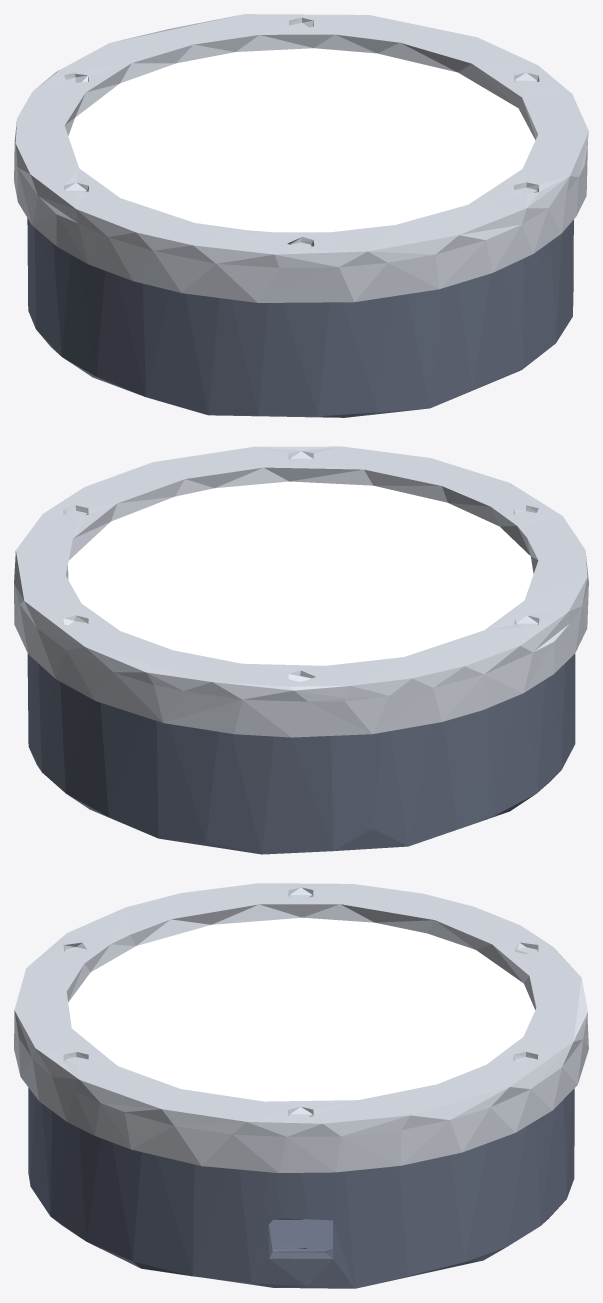
File: nucleo-fisico.glb
3 views of the same model, one above another, from view 1: azimuth 30°, elevation 25°; view 2: azimuth 150°, elevation 25°; view 3: azimuth 270°, elevation 25° (orthographic).
Parts seen in each view (by area): view 1: Aro, Difusor com a fita, Carcaça; view 2: Aro, Difusor com a fita, Carcaça; view 3: Aro, Difusor com a fita, Carcaça.
Part boxes in pixels (x1,y1,x2,y2): Aro: (14, 14, 588, 302); Difusor com a fita: (68, 48, 535, 232); Carcaça: (27, 218, 573, 417); Aro: (14, 446, 588, 737); Difusor com a fita: (68, 481, 533, 665); Carcaça: (27, 653, 575, 854); Aro: (14, 883, 588, 1172); Difusor com a fita: (68, 917, 535, 1101); Carcaça: (28, 1087, 574, 1288).
Bounding box in the file's own units: 0.1048 × 0.035 × 0.1052.
